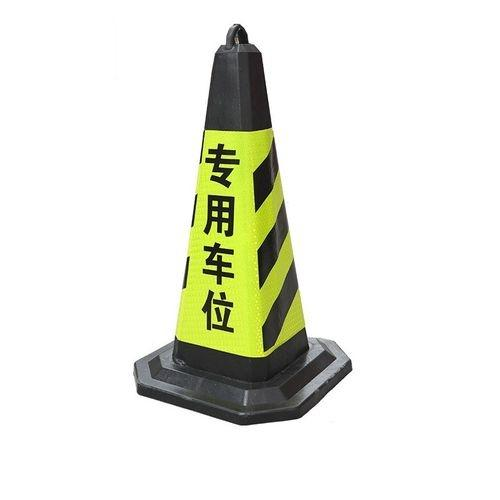cone_barrel: (144, 24, 331, 418)
